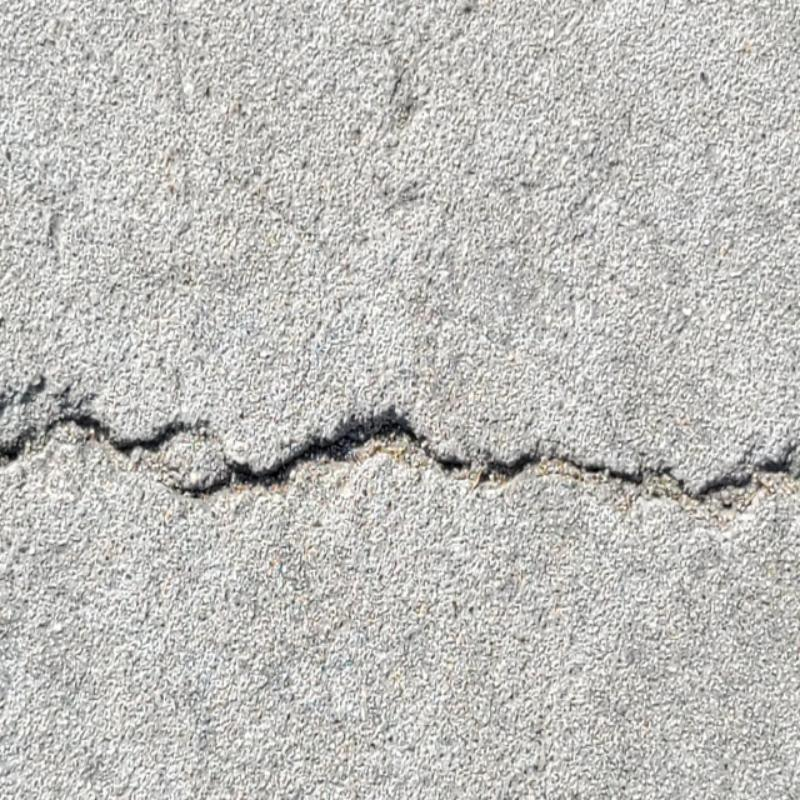pothole: (1, 402, 800, 513)
